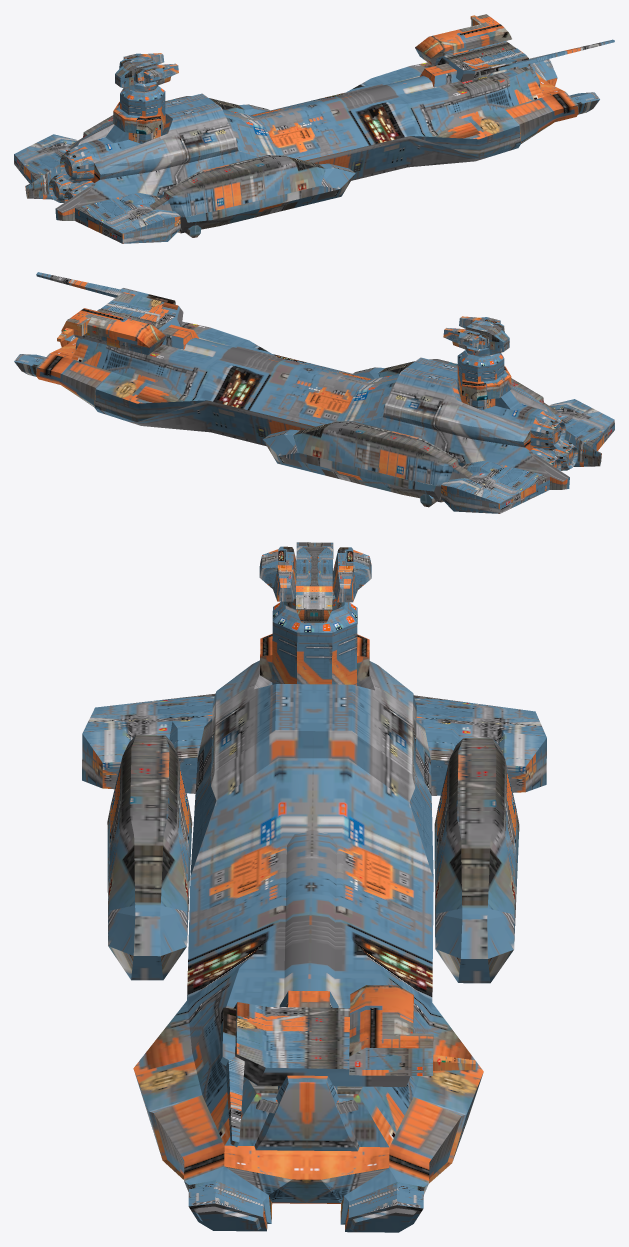
File: frigate_a.FBX
3 views of the same model, one above another, from view 1: azimuth 30°, elevation 25°; view 2: azimuth 150°, elevation 25°; view 3: azimuth 270°, elevation 25° (orthographic). The views are drawn at different scales.
Visible parts, largest first — view 1: group1, group2, group13, group12, group21, group14, group3, group16, group11; view 2: group1, group2, group13, group12, group21, group14, group3, group15, group11; view 3: group1, group2, group13, group12, group21, group14, group31, group15, group16.
Part boxes in pixels (x1,y1,x2,y2): group1: (25,39,614,220); group2: (14,14,599,243); group13: (68,96,325,216); group12: (177,104,355,237); group21: (251,76,432,125); group14: (115,57,171,92); group3: (26,153,76,199); group16: (134,63,178,83); group11: (48,152,76,202); group1: (36,272,601,489); group2: (14,292,614,513); group13: (293,359,559,485); group12: (263,367,443,507); group21: (185,337,370,390); group14: (452,320,509,356); group3: (552,419,600,468); group15: (443,328,489,348); group11: (548,418,577,470); group1: (133,601,483,1224); group2: (82,693,546,1232); group13: (108,735,516,914); group12: (107,806,519,983); group21: (284,829,337,997); group14: (284,542,344,622); group31: (193,1097,417,1231); group15: (332,547,371,602); group16: (259,546,296,601).
Bounding box in the file's own units: 42898 × 11595 × 15612.
1 material, 1 textured.
